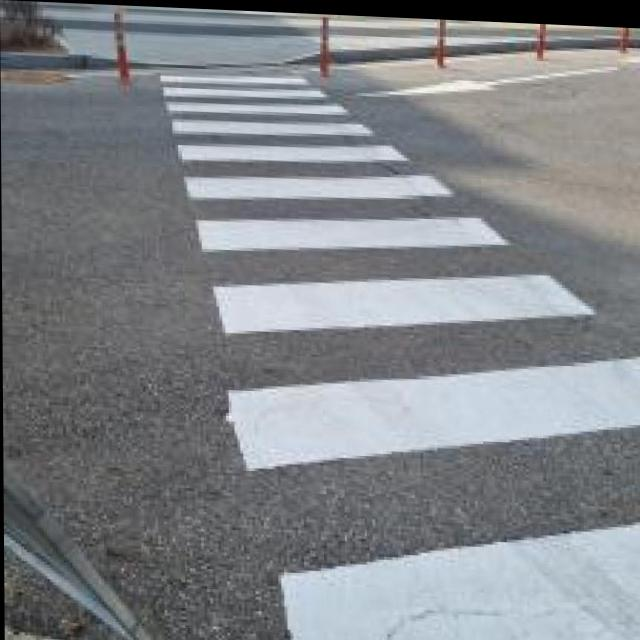zebra: (154, 53, 640, 640)
